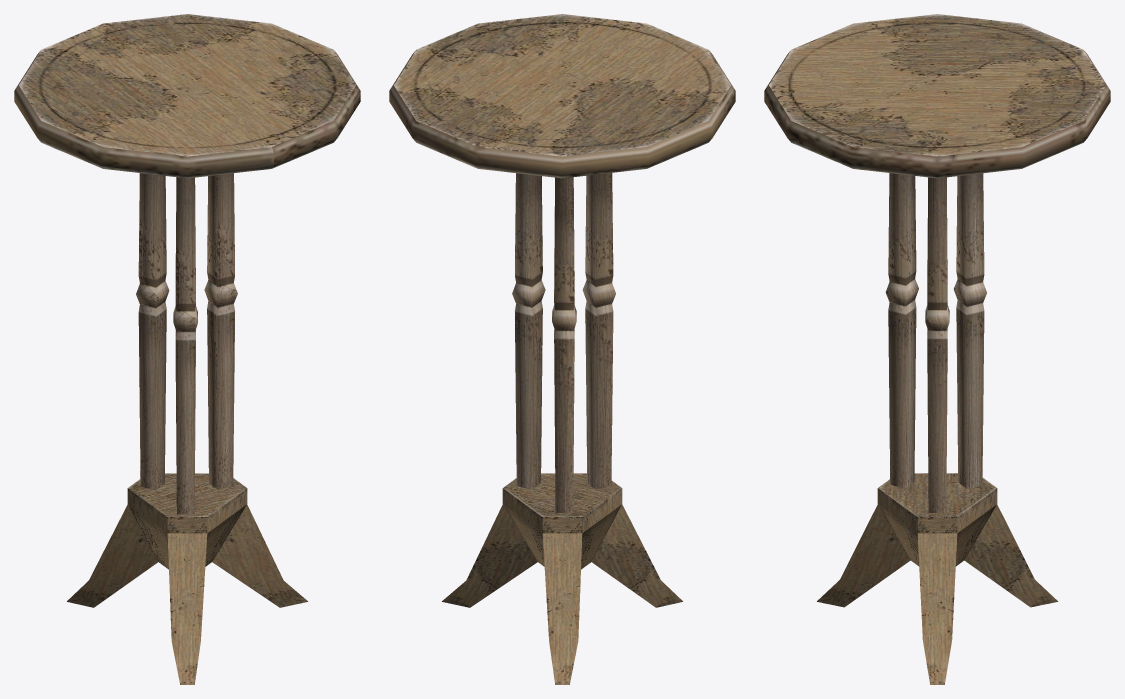
The model's file is table_construct.fbx.
3 renders of one model, left to right at view 1: azimuth 30°, elevation 25°; view 2: azimuth 150°, elevation 25°; view 3: azimuth 270°, elevation 25°, orthographic.
Parts seen in each view (by area): view 1: mesh_0; view 2: mesh_0; view 3: mesh_0.
Boxes of the visible parts, x1,y1,x2,y2 form: mesh_0: (14, 14, 360, 684); mesh_0: (389, 14, 735, 684); mesh_0: (764, 14, 1110, 684).
Size of the model in its own units: 50.15 by 86.6 by 50.15.
Materials: 1 (1 with a texture image).
